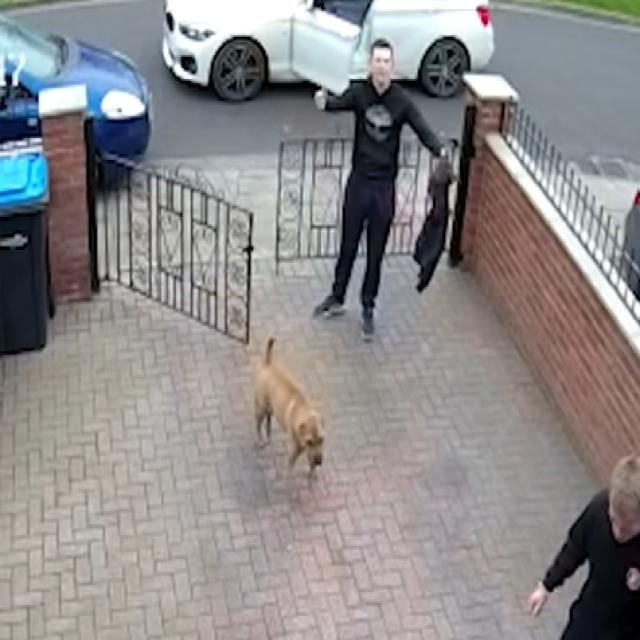person: (310, 38, 456, 342), (526, 449, 639, 640)
